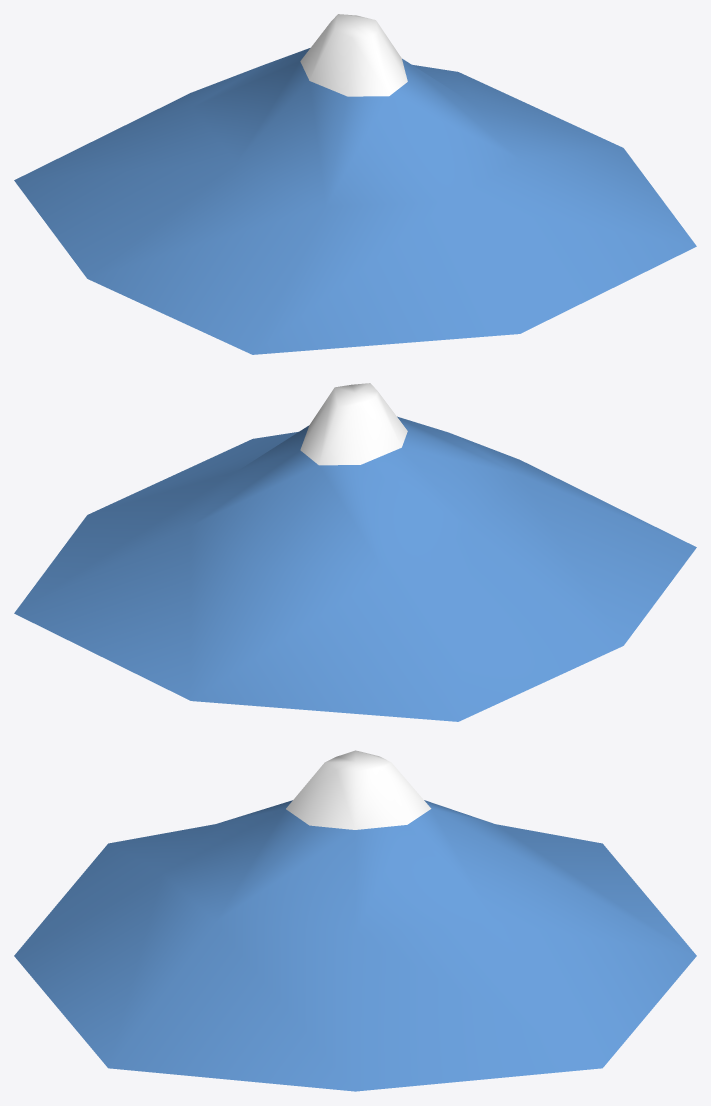
The model's file is huzi.fbx.
3 renders of one model, top to bottom at view 1: azimuth 30°, elevation 25°; view 2: azimuth 150°, elevation 25°; view 3: azimuth 270°, elevation 25°, orthographic. The views are drawn at different scales.
Visible parts, largest first — view 1: huzi; view 2: huzi; view 3: huzi.
Boxes of the visible parts, x1,y1,x2,y2 form: huzi: [14, 14, 696, 354]; huzi: [14, 383, 696, 721]; huzi: [14, 750, 696, 1091].
Bounding box in the file's own units: 223 × 74.93 × 238.
